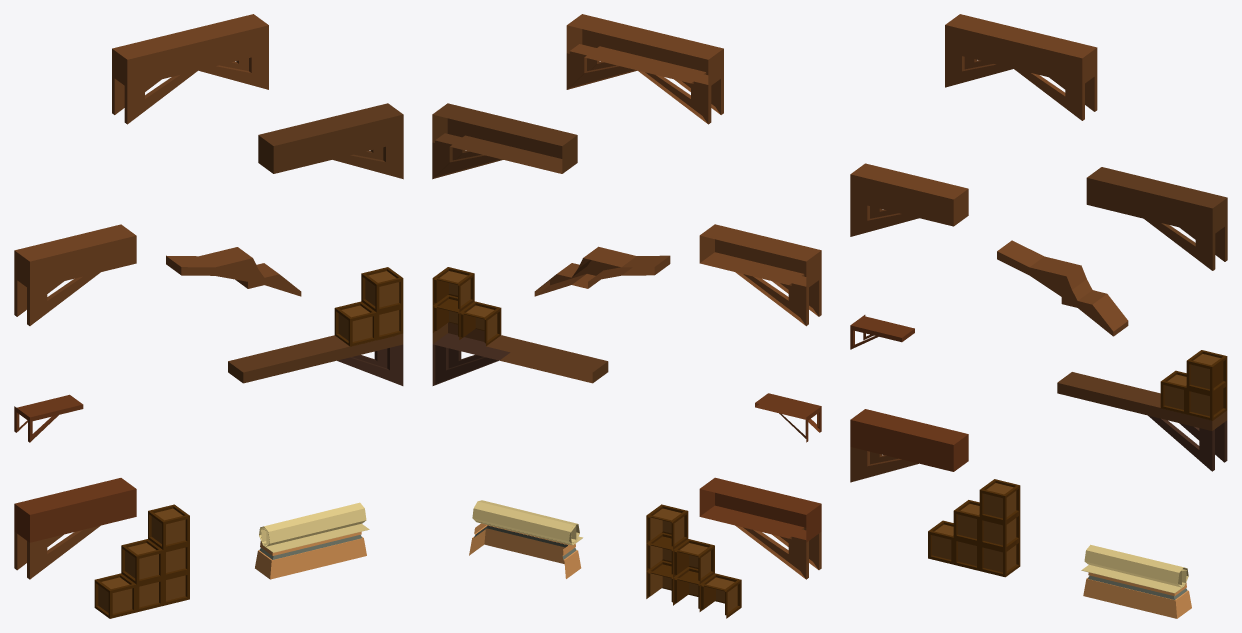
Rendered from level.fbx.
3 views of the same model, side by side, from view 1: azimuth 30°, elevation 25°; view 2: azimuth 150°, elevation 25°; view 3: azimuth 330°, elevation 25° (orthographic). The views are drawn at different scales.
Parts seen in each view (by area): view 1: Shelf5, Shelf4, Boxes, Shelf3.001, Shelf3, Shelf2, Boxes2, Pergaminho, Platform2, Platform, Shelf1; view 2: Shelf5, Shelf4, Shelf3, Shelf3.001, Boxes, Shelf2, Boxes2, Platform2, Pergaminho, Platform, Shelf1; view 3: Shelf5, Shelf4, Boxes, Shelf3.001, Shelf3, Shelf2, Platform2, Boxes2, Pergaminho, Platform, Shelf1.
Part boxes in pixels (<box>): Shelf5: <box>112,14,268,124</box>; Shelf4: <box>258,103,403,179</box>; Boxes: <box>94,504,189,618</box>; Shelf3.001: <box>14,478,136,579</box>; Shelf3: <box>14,224,136,325</box>; Shelf2: <box>228,333,403,385</box>; Boxes2: <box>334,267,403,346</box>; Pergaminho: <box>259,502,369,552</box>; Platform2: <box>166,247,301,296</box>; Platform: <box>255,531,366,579</box>; Shelf1: <box>14,394,83,442</box>; Shelf5: <box>566,14,723,124</box>; Shelf4: <box>432,103,577,179</box>; Shelf3: <box>699,224,821,326</box>; Shelf3.001: <box>699,477,821,579</box>; Boxes: <box>646,504,741,618</box>; Shelf2: <box>432,322,608,385</box>; Boxes2: <box>432,267,501,346</box>; Platform2: <box>534,246,670,296</box>; Pergaminho: <box>472,500,582,545</box>; Platform: <box>469,523,581,578</box>; Shelf1: <box>755,393,821,442</box>; Shelf5: <box>945,14,1097,120</box>; Shelf4: <box>1086,167,1227,270</box>; Boxes: <box>928,479,1020,577</box>; Shelf3.001: <box>850,409,968,482</box>; Shelf3: <box>850,163,968,236</box>; Shelf2: <box>1057,372,1227,471</box>; Platform2: <box>997,240,1128,336</box>; Boxes2: <box>1160,350,1227,420</box>; Pergaminho: <box>1081,544,1188,593</box>; Platform: <box>1083,572,1191,618</box>; Shelf1: <box>850,315,914,349</box>.
Size of the model in its own units: 2802 by 3975 by 235.
